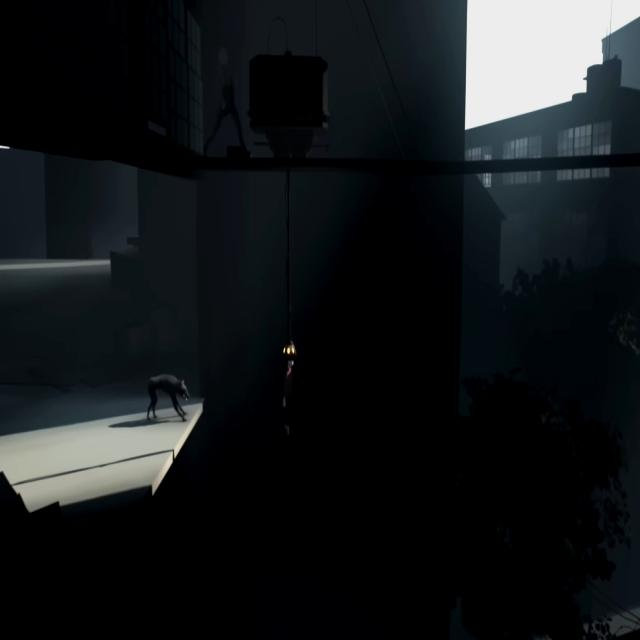boy: (281, 357, 299, 444)
